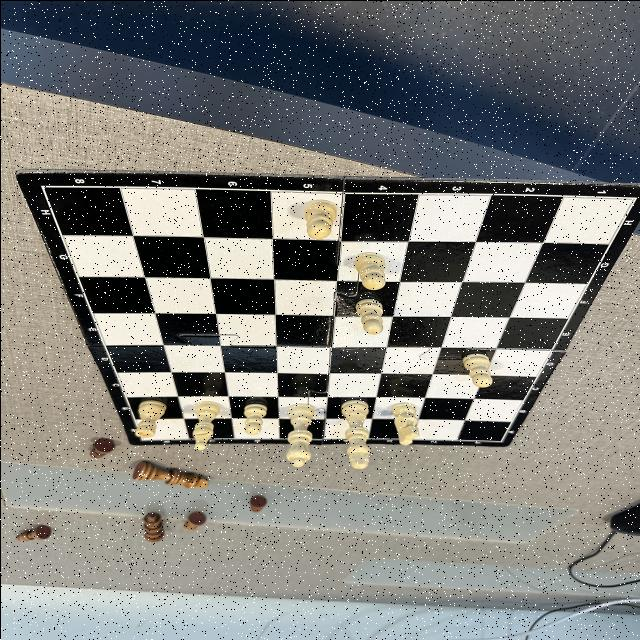Black-Bishop: (13, 524, 51, 540)
Black-King: (131, 460, 209, 488)
Black-Pawn: (88, 437, 116, 458), (182, 510, 206, 530), (248, 494, 266, 512)
Black-Queen: (142, 512, 164, 542)
White-Bishop: (191, 400, 219, 450)
White-King: (340, 398, 370, 468)
White-Knight: (391, 402, 418, 444)
White-Pawn: (302, 198, 336, 238), (353, 251, 385, 289), (462, 352, 492, 387), (354, 298, 382, 334), (242, 402, 266, 434)
White-Queen: (286, 402, 314, 467)
White-Rook: (134, 399, 166, 437)
